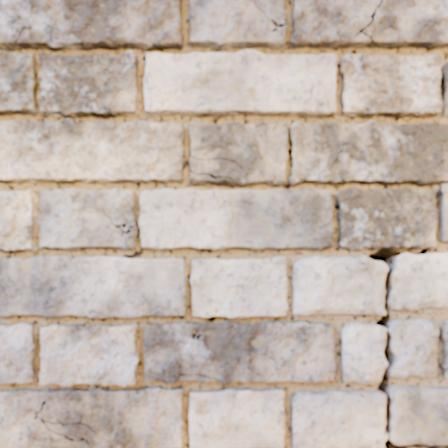broken_brick: (293, 256, 387, 314), (292, 390, 387, 447), (389, 386, 447, 444), (389, 252, 447, 310), (389, 319, 438, 378), (342, 323, 387, 384), (441, 62, 447, 117)
crack: (289, 120, 447, 447), (0, 0, 186, 183), (144, 0, 337, 117), (0, 188, 333, 251), (143, 320, 336, 384), (0, 256, 187, 319), (0, 388, 184, 447), (291, 0, 447, 49), (341, 51, 443, 117), (189, 121, 288, 186), (39, 324, 139, 387), (190, 257, 287, 318), (189, 388, 285, 447), (0, 323, 37, 383), (438, 320, 447, 379)
